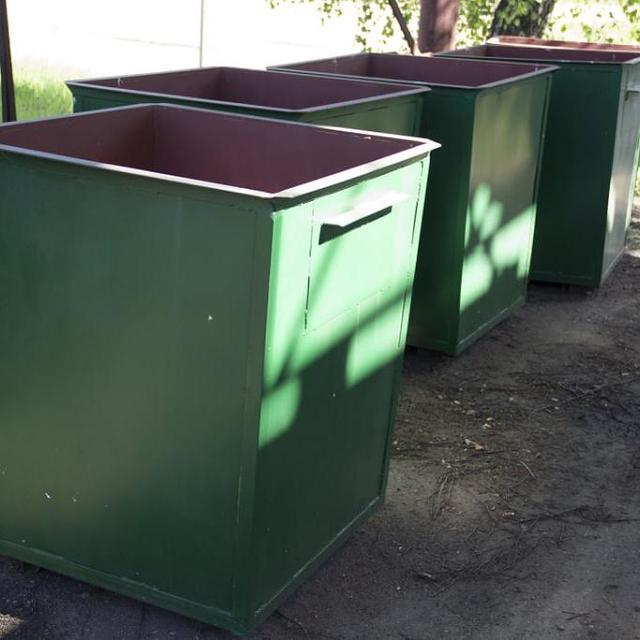Trash_Can_Empty: (0, 103, 438, 628), (272, 54, 561, 355), (432, 45, 639, 286), (67, 68, 426, 135)
